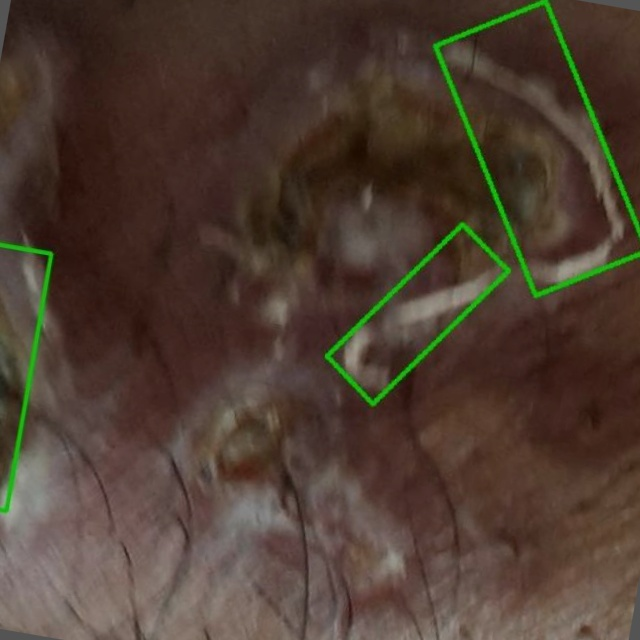Contact Dermatitis: (436, 0, 639, 294), (327, 223, 509, 403)
